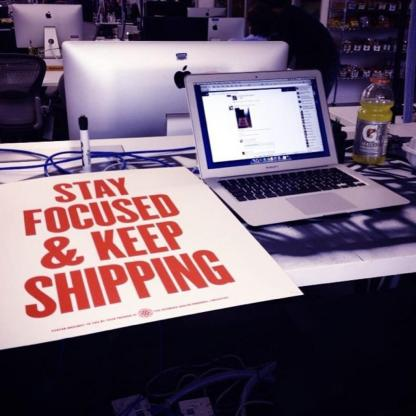board: (181, 61, 387, 233), (353, 67, 388, 164)
